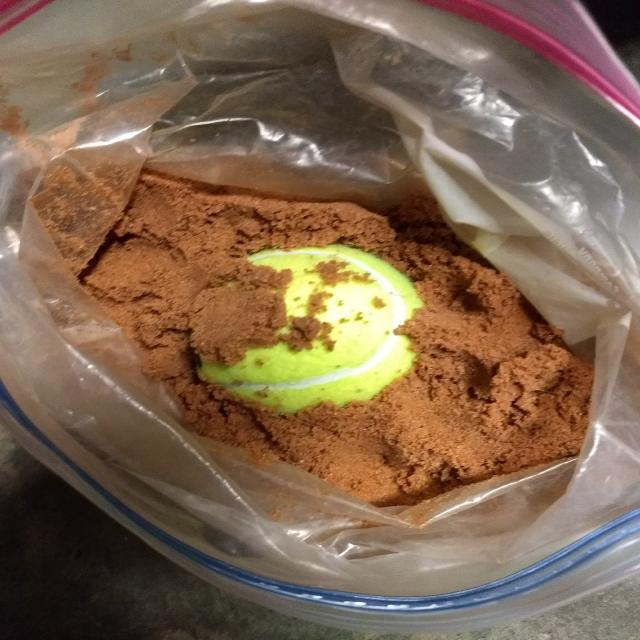Tennis-Ball: (193, 248, 421, 410)
